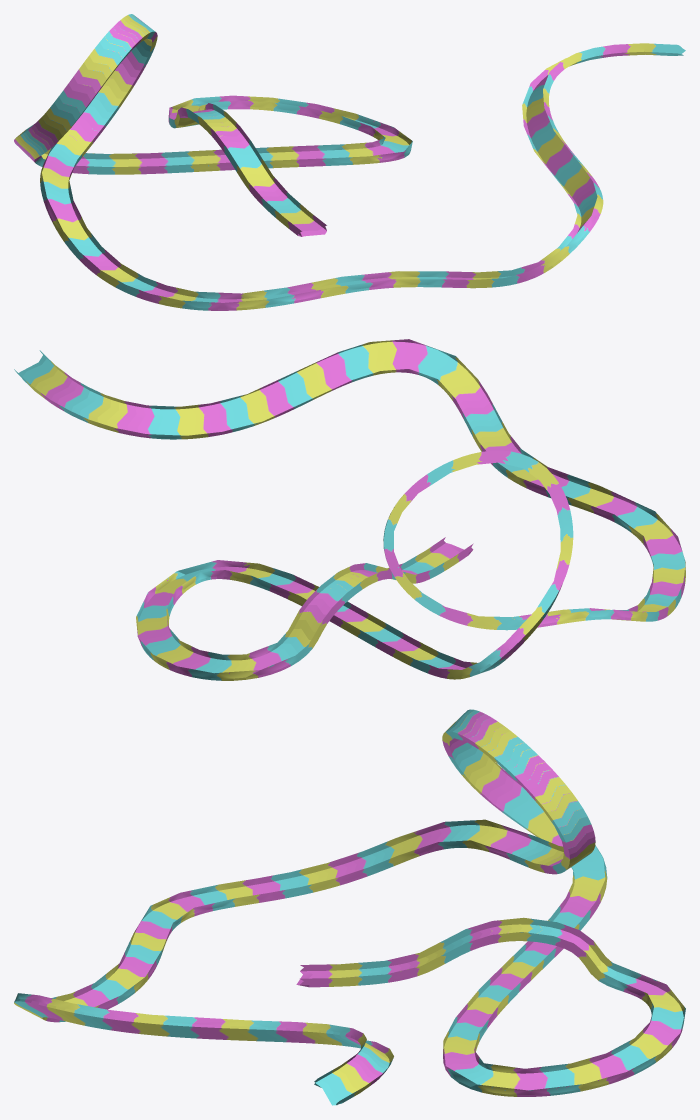
The model's file is Level1LowPoly.fbx.
3 views of the same model, one above another, from view 1: azimuth 30°, elevation 25°; view 2: azimuth 150°, elevation 25°; view 3: azimuth 270°, elevation 25° (orthographic). The views are drawn at different scales.
Parts seen in each view (by area): view 1: Cube.005; view 2: Cube.005; view 3: Cube.005.
Boxes of the visible parts, box(x1,y1,x2,y2) form: Cube.005: box(14, 14, 685, 310); Cube.005: box(14, 339, 685, 680); Cube.005: box(14, 709, 685, 1105).
Size of the model in its own units: 8620 by 2705 by 7453.
1 material, 1 textured.
